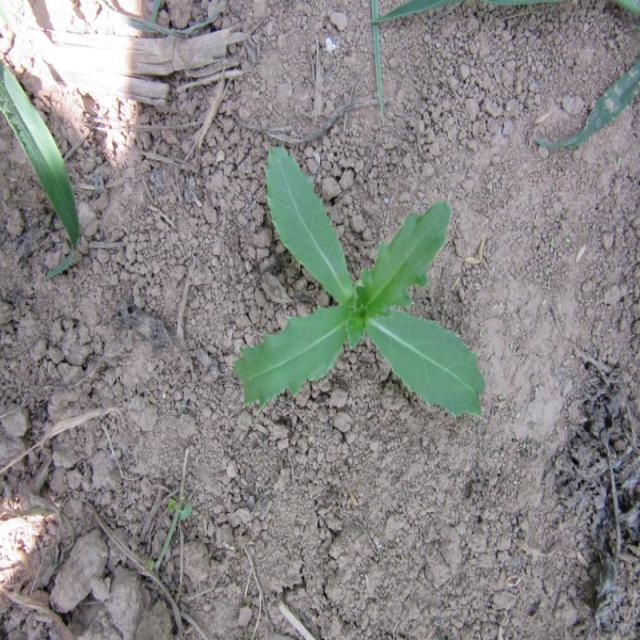field_thistle: (233, 134, 492, 440)
